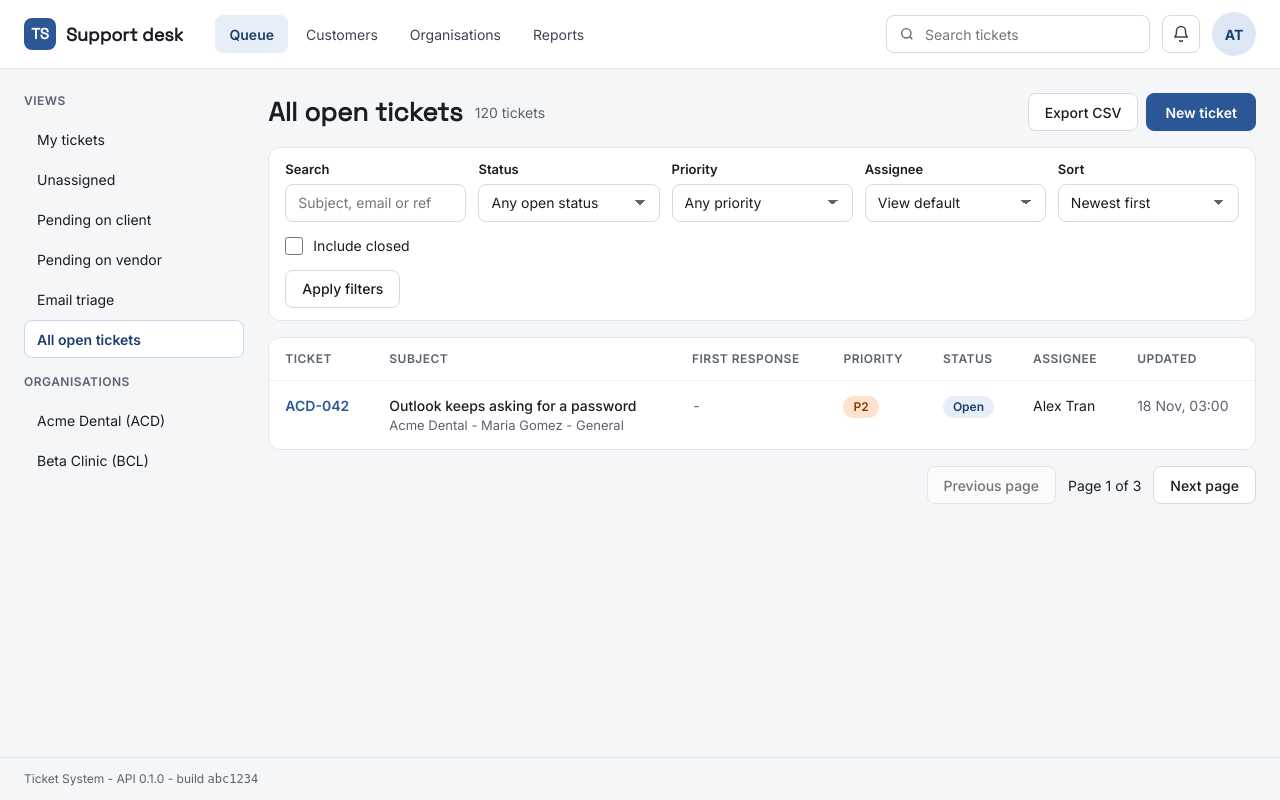
Test case: Agent queue › pages through results 50 at a time
expect the text "Page 1 of 3" is shown: met, box [1068,474,1141,496]
Click the button "Next page" at (1205, 485), box [1153,466,1256,504]
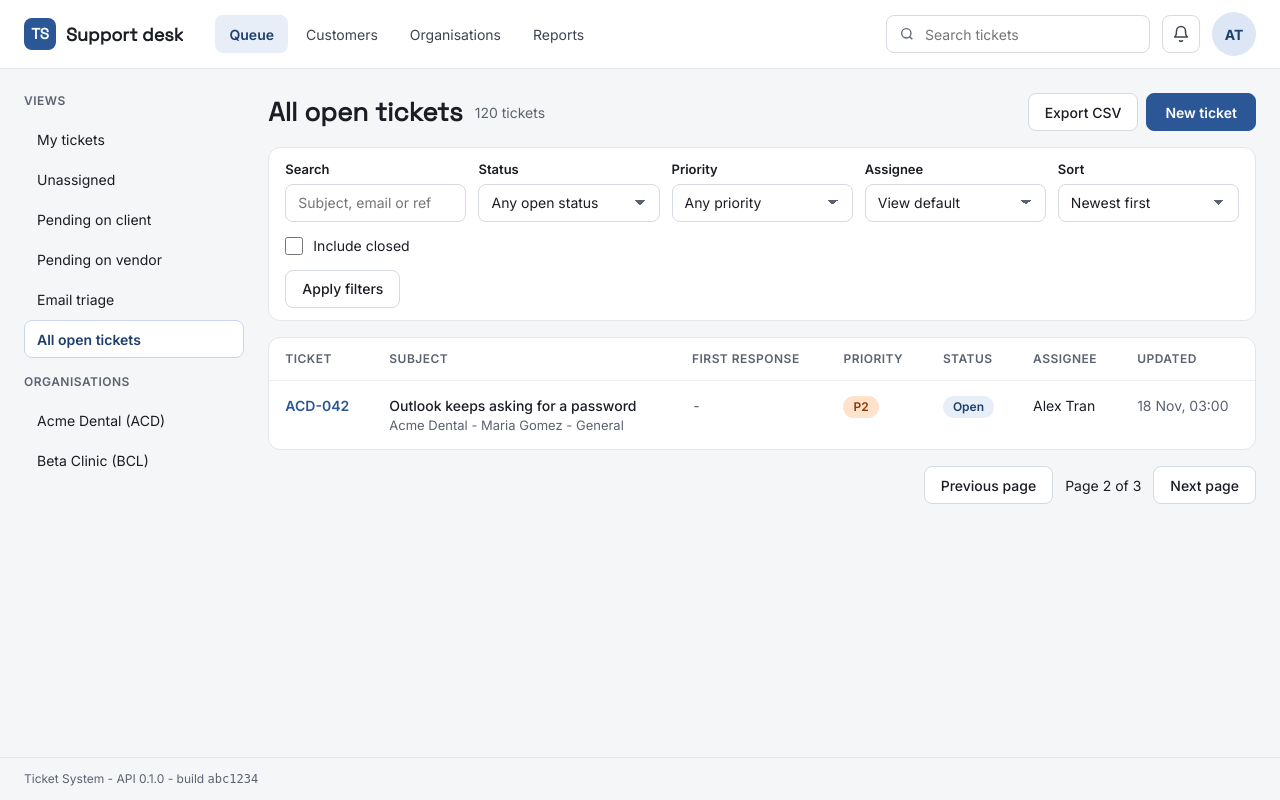
expect the text "Page 2 of 3" is shown: met, box [1065,474,1141,496]
